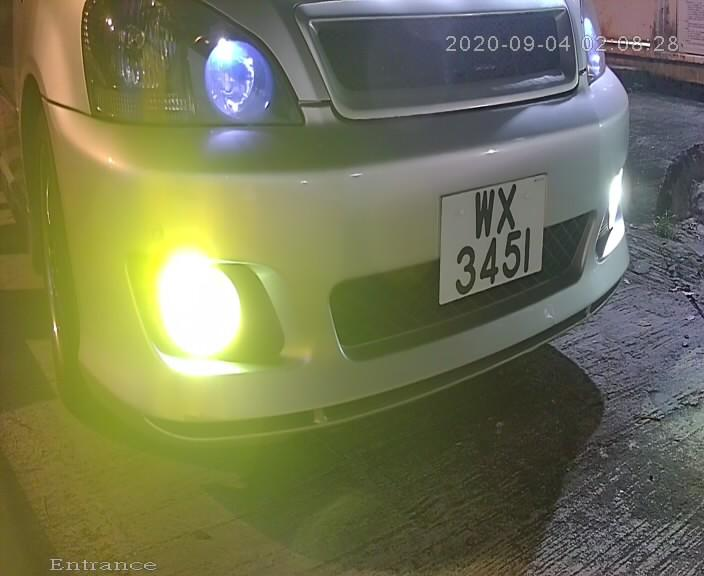License Plate: (431, 163, 551, 309)
